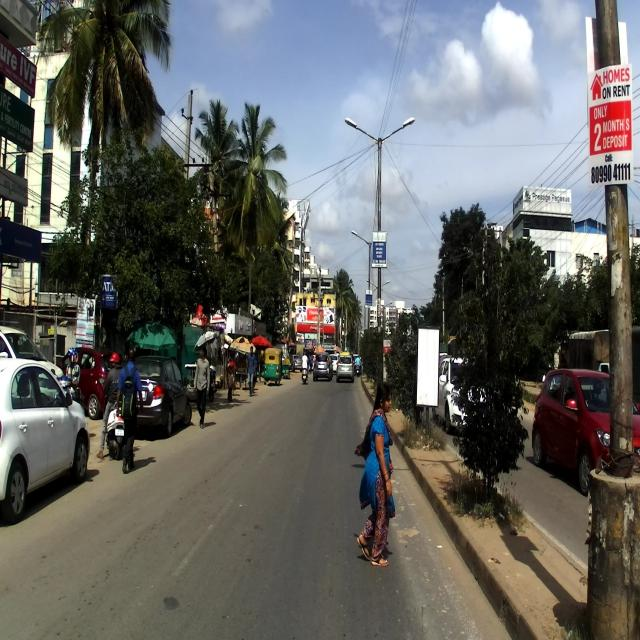Car: (54, 345, 114, 419), (0, 325, 62, 377)
Car_Hyundai: (530, 364, 640, 496)
Car_Maruti-Suzuki: (0, 356, 90, 522)
scooter: (98, 376, 124, 461)
